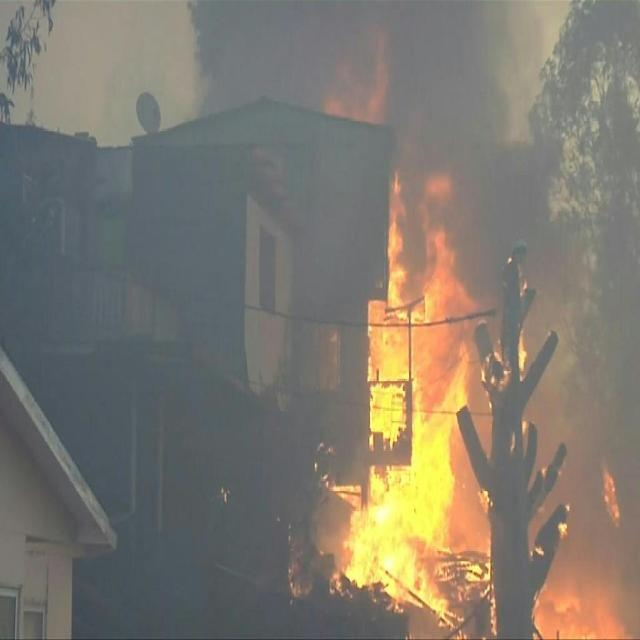Fire: (324, 155, 478, 634), (519, 566, 633, 640), (594, 450, 624, 536)
Smoke: (384, 0, 620, 596), (172, 0, 575, 144)
